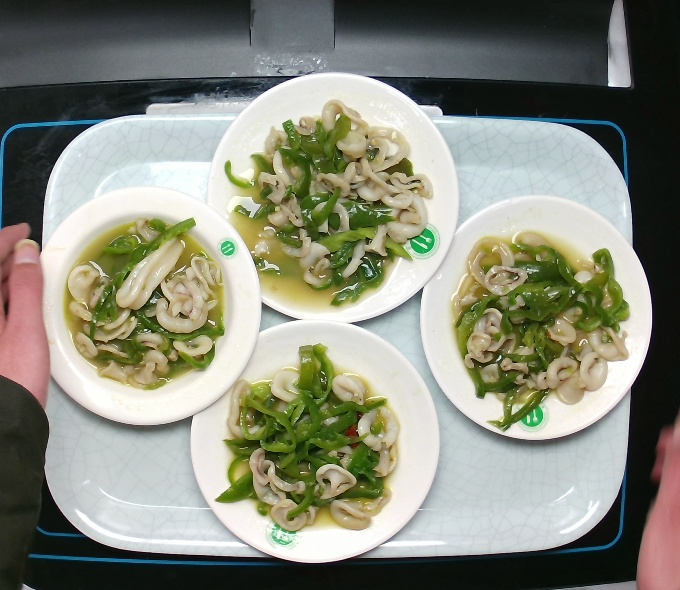wcq-QingJiaoYouYu: (214, 101, 441, 311), (209, 336, 407, 541), (442, 227, 637, 434), (49, 203, 241, 403)
